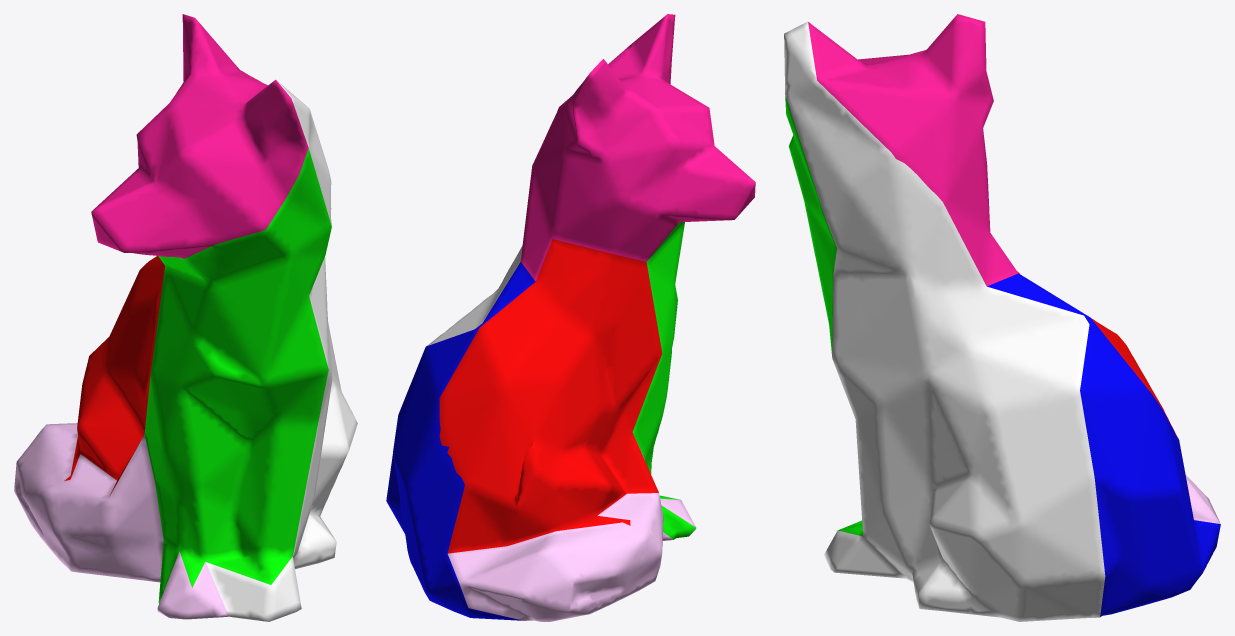
File: model_19403_segmented.obj
3 renders of one model, left to right at view 1: azimuth 30°, elevation 25°; view 2: azimuth 150°, elevation 25°; view 3: azimuth 270°, elevation 25°, orthographic. The views are drawn at different scales.
Bounding box in the file's own units: 63.73 × 107 × 78.43.
